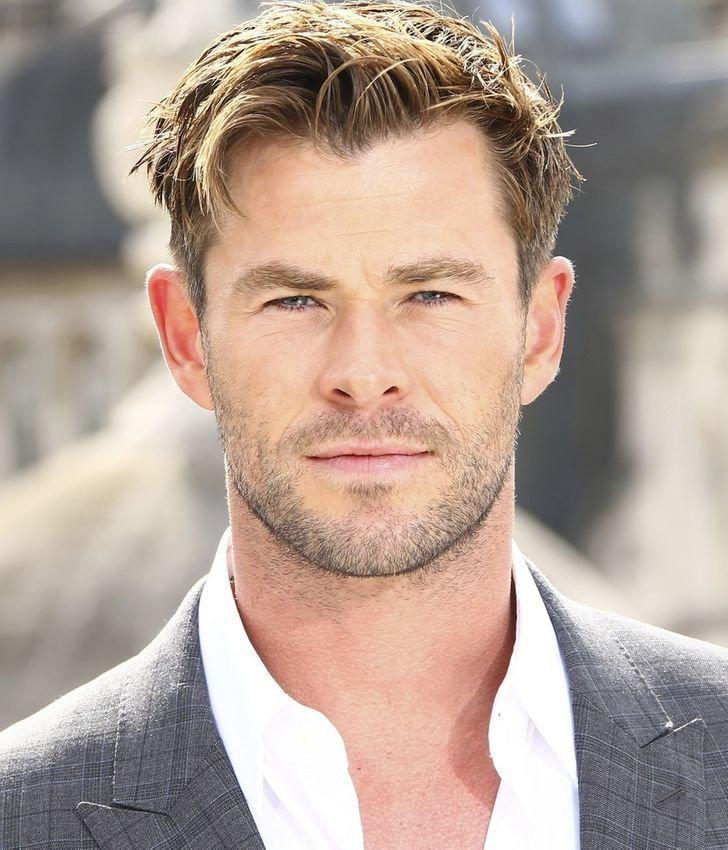Sober: (199, 146, 520, 566)
